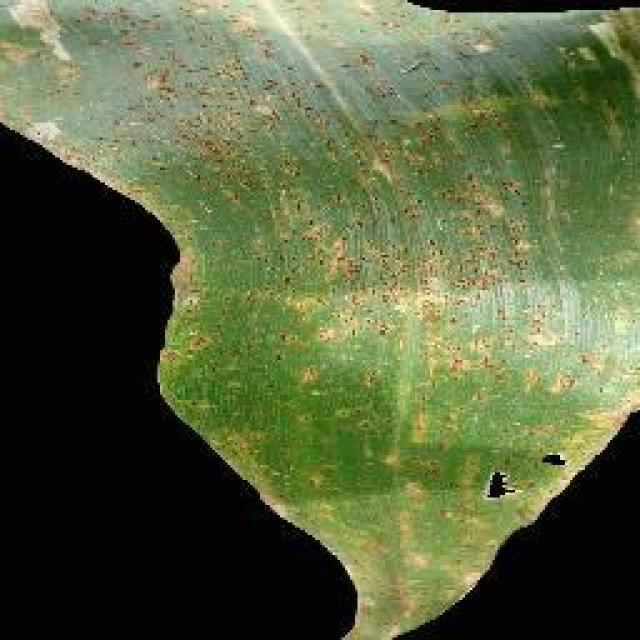Corn Common Rust: (82, 0, 610, 640)
